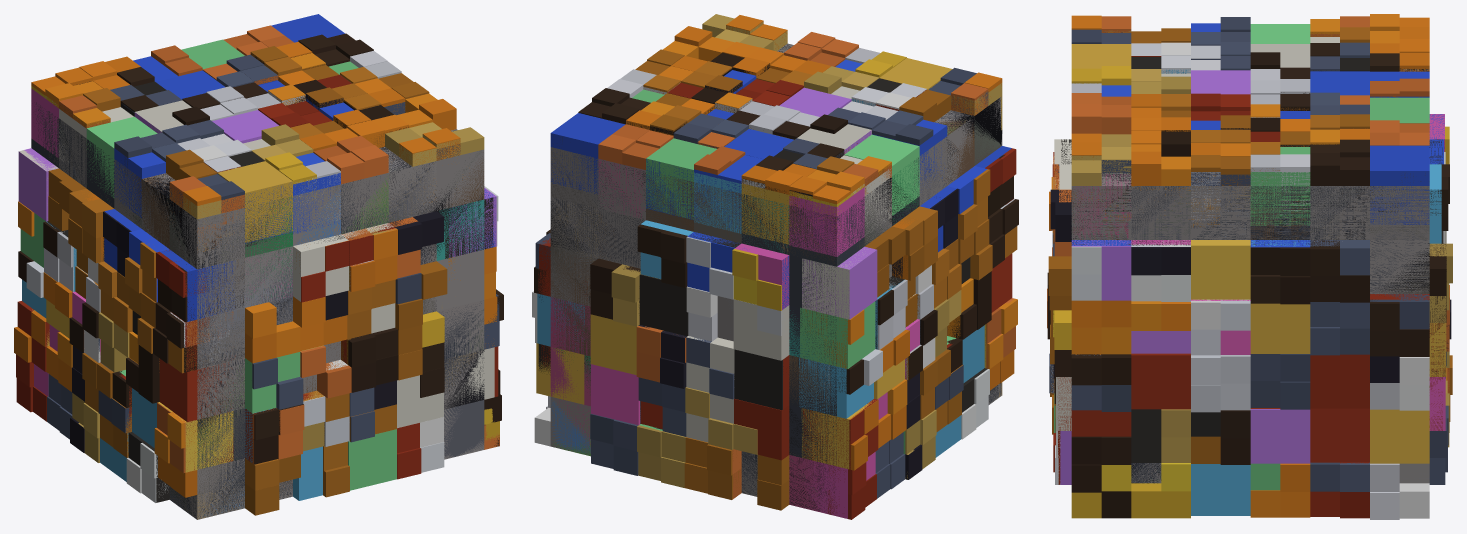
File: ores.glb
3 renders of one model, left to right at view 1: azimuth 30°, elevation 25°; view 2: azimuth 150°, elevation 25°; view 3: azimuth 270°, elevation 25°, orthographic. The views are drawn at different scales.
Parts seen in each view (by area): view 1: Ore_bismuth, Ore_zinc_Glow, Ore_bismuth_Glow, Ore_sunstone_Glow, Ore_tin_Glow, Ore_iron_Glow, Ore_copper_Glow, Ore_magnetite_Glow, Ore_cobalt_Glow, Ore_gold_Glow, Ore_cobalt, Ore_nickel_Glow (+15 smaller); view 2: Ore_bismuth_Glow, Ore_zinc_Glow, Ore_cobalt, Ore_bismuth, Ore_sunstone_Glow, Ore_tin_Glow, Ore_magnetite_Glow, Ore_gold_Glow, Ore_nickel_Glow, Ore_cobalt_Glow, Ore_iron_Glow, Ore_copper (+10 smaller); view 3: Ore_bismuth_Glow, Ore_tin_Glow, Ore_bismuth, Ore_magnetite_Glow, Ore_sunstone_Glow, Ore_iron_Glow, Ore_silver_Glow, Ore_platinum_Glow, Ore_gold_Glow, Ore_zinc_Glow, Ore_cobalt_Glow, Ore_cobalt (+10 smaller).
Boxes of the visible parts, left/top/right/bottom form: Ore_bismuth: left=59, top=119, right=484, bottom=519; Ore_zinc_Glow: left=48, top=46, right=447, bottom=515; Ore_bismuth_Glow: left=18, top=39, right=496, bottom=500; Ore_sunstone_Glow: left=14, top=41, right=497, bottom=497; Ore_tin_Glow: left=18, top=33, right=503, bottom=503; Ore_iron_Glow: left=16, top=75, right=498, bottom=479; Ore_copper_Glow: left=59, top=25, right=499, bottom=473; Ore_magnetite_Glow: left=47, top=54, right=499, bottom=442; Ore_cobalt_Glow: left=104, top=14, right=495, bottom=321; Ore_gold_Glow: left=19, top=86, right=499, bottom=440; Ore_cobalt: left=31, top=102, right=483, bottom=518; Ore_nickel_Glow: left=72, top=122, right=484, bottom=462; Ore_bismuth_Glow: left=536, top=58, right=986, bottom=518; Ore_zinc_Glow: left=635, top=49, right=1017, bottom=510; Ore_cobalt: left=550, top=110, right=1001, bottom=513; Ore_bismuth: left=550, top=43, right=1002, bottom=496; Ore_sunstone_Glow: left=626, top=15, right=1017, bottom=470; Ore_tin_Glow: left=534, top=52, right=1018, bottom=412; Ore_magnetite_Glow: left=535, top=67, right=988, bottom=498; Ore_gold_Glow: left=686, top=51, right=906, bottom=442; Ore_nickel_Glow: left=611, top=14, right=1002, bottom=487; Ore_cobalt_Glow: left=550, top=59, right=1011, bottom=309; Ore_iron_Glow: left=538, top=79, right=1016, bottom=519; Ore_copper: left=551, top=118, right=974, bottom=409; Ore_bismuth_Glow: left=1054, top=24, right=1446, bottom=515; Ore_tin_Glow: left=1047, top=43, right=1449, bottom=518; Ore_bismuth: left=1071, top=173, right=1429, bottom=483; Ore_magnetite_Glow: left=1049, top=17, right=1448, bottom=491; Ore_sunstone_Glow: left=1049, top=14, right=1429, bottom=517; Ore_iron_Glow: left=1052, top=56, right=1445, bottom=518; Ore_silver_Glow: left=1071, top=42, right=1444, bottom=519; Ore_platinum_Glow: left=1051, top=69, right=1445, bottom=484; Ore_gold_Glow: left=1053, top=37, right=1449, bottom=518; Ore_zinc_Glow: left=1048, top=27, right=1452, bottom=463; Ore_cobalt_Glow: left=1071, top=23, right=1444, bottom=247; Ore_cobalt: left=1073, top=174, right=1429, bottom=483.
Size of the model in its own units: 1.13 by 1.13 by 1.13.
